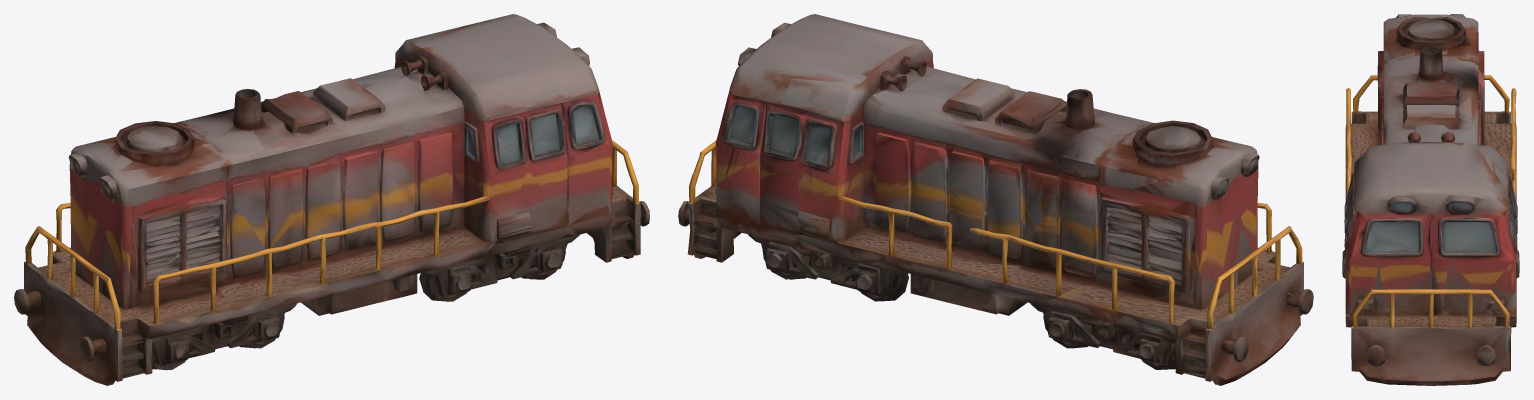
File: train_loco_diesel_idle.glb
3 views of the same model, side by side, from view 1: azimuth 30°, elevation 25°; view 2: azimuth 150°, elevation 25°; view 3: azimuth 270°, elevation 25° (orthographic). The views are drawn at different scales.
Visible parts, largest first — view 1: tripo_node_43a4cdeb-e262-4e18-b363-54b40a7bfb44; view 2: tripo_node_43a4cdeb-e262-4e18-b363-54b40a7bfb44; view 3: tripo_node_43a4cdeb-e262-4e18-b363-54b40a7bfb44.
Boxes of the visible parts, <box> form: tripo_node_43a4cdeb-e262-4e18-b363-54b40a7bfb44: <box>14,14,649,385</box>; tripo_node_43a4cdeb-e262-4e18-b363-54b40a7bfb44: <box>678,14,1313,385</box>; tripo_node_43a4cdeb-e262-4e18-b363-54b40a7bfb44: <box>1342,14,1519,385</box>.
Size of the model in its own units: 7 by 2.82 by 2.26.
1 material, 1 textured.
